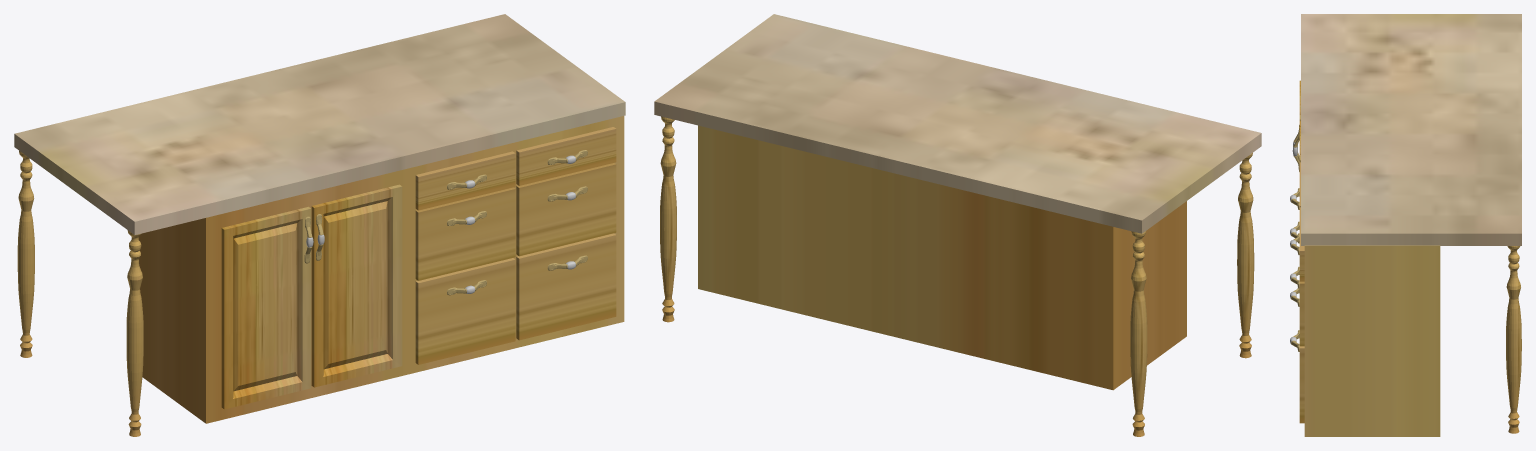
File: kitchenIsland.obj
The picture shows the model from 3 angles, left to right: view 1: azimuth 30°, elevation 25°; view 2: azimuth 150°, elevation 25°; view 3: azimuth 270°, elevation 25°; orthographic projection. The views are drawn at different scales.
Parts seen in each view (by area): view 1: PolyMesh_2, PolyMesh_1, PolyMesh_1_1, PolyMesh_1_2, Cube_3_5, Cube_3, Cube_3_4, Cube_3_1, Cube_3_2, Cube_3_3, Lathed_Object_3_2, Lathed_Object_3_1; view 2: PolyMesh_1, PolyMesh_2, Lathed_Object_3_1, Lathed_Object_3, Lathed_Object_3_2; view 3: PolyMesh_2, PolyMesh_1, Lathed_Object_3, Cube_3_5, Cube_3_4, Cube_3_3.
Part boxes in pixels (bbox=[...]): PolyMesh_2: bbox=[14, 14, 625, 234]; PolyMesh_1: bbox=[138, 116, 624, 423]; PolyMesh_1_1: bbox=[311, 184, 402, 387]; PolyMesh_1_2: bbox=[221, 206, 311, 409]; Cube_3_5: bbox=[516, 233, 616, 340]; Cube_3: bbox=[415, 258, 515, 364]; Cube_3_4: bbox=[516, 163, 616, 256]; Cube_3_1: bbox=[415, 187, 515, 280]; Cube_3_2: bbox=[415, 151, 515, 210]; Cube_3_3: bbox=[516, 127, 616, 185]; Lathed_Object_3_2: bbox=[126, 230, 143, 436]; Lathed_Object_3_1: bbox=[17, 151, 34, 357]; PolyMesh_1: bbox=[698, 125, 1186, 390]; PolyMesh_2: bbox=[654, 14, 1261, 233]; Lathed_Object_3_1: bbox=[1130, 231, 1147, 436]; Lathed_Object_3: bbox=[660, 116, 676, 322]; Lathed_Object_3_2: bbox=[1237, 153, 1254, 358]; PolyMesh_2: bbox=[1301, 14, 1521, 245]; PolyMesh_1: bbox=[1304, 245, 1440, 436]; Lathed_Object_3: bbox=[1506, 246, 1521, 433]; Cube_3_5: bbox=[1299, 346, 1304, 423]; Cube_3_4: bbox=[1299, 281, 1304, 346]; Cube_3_3: bbox=[1299, 207, 1304, 281].
Size of the model in its own units: 4.32 by 1.86 by 1.93.
